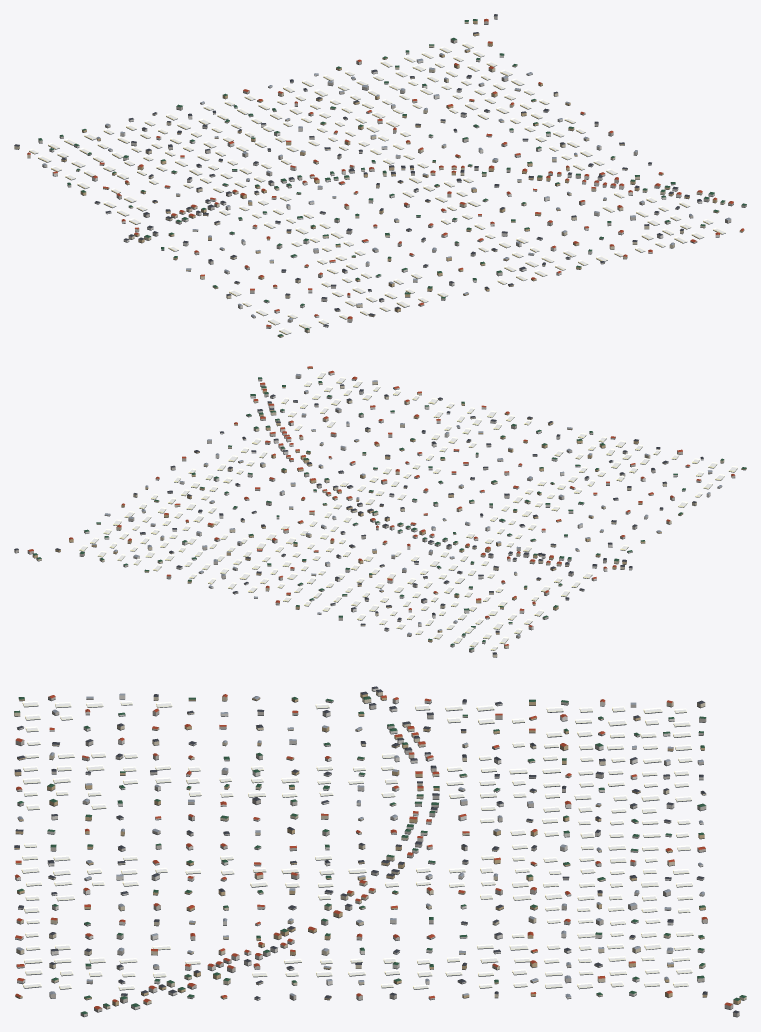
Rendered from buildings_T_E05_S03.glb.
3 renders of one model, top to bottom at view 1: azimuth 30°, elevation 25°; view 2: azimuth 150°, elevation 25°; view 3: azimuth 270°, elevation 25°, orthographic. The views are drawn at different scales.
Parts seen in each view (by area): view 1: T_E05_S03_roofs_agri_greenhouse_arch, T_E05_S03_slope_seating_foundations, T_E05_S03_walls_wall_pastel_sand_gray, T_E05_S03_walls_wall_modern_warm_white, T_E05_S03_walls_wall_french_ochre_villa, T_E05_S03_roofs_roof_slate_French_villa_hip, T_E05_S03_walls_wall_dalat_cream_stucco, T_E05_S03_roofs_roof_terracotta_gable, T_E05_S03_roofs_roof_pine_green_hip, T_E05_S03_roofs_roof_zinc_silver_gable; view 2: T_E05_S03_roofs_agri_greenhouse_arch, T_E05_S03_slope_seating_foundations, T_E05_S03_walls_wall_pastel_sand_gray, T_E05_S03_walls_wall_modern_warm_white, T_E05_S03_roofs_roof_slate_French_villa_hip, T_E05_S03_walls_wall_french_ochre_villa, T_E05_S03_roofs_roof_terracotta_gable, T_E05_S03_walls_wall_dalat_cream_stucco, T_E05_S03_roofs_roof_pine_green_hip, T_E05_S03_roofs_roof_zinc_silver_gable; view 3: T_E05_S03_roofs_agri_greenhouse_arch, T_E05_S03_slope_seating_foundations, T_E05_S03_walls_wall_pastel_sand_gray, T_E05_S03_walls_wall_modern_warm_white, T_E05_S03_walls_wall_french_ochre_villa, T_E05_S03_roofs_roof_slate_French_villa_hip, T_E05_S03_walls_wall_dalat_cream_stucco, T_E05_S03_roofs_roof_terracotta_gable, T_E05_S03_roofs_roof_pine_green_hip, T_E05_S03_roofs_roof_zinc_silver_gable.
Part boxes in pixels (x1,y1,x2,y2): T_E05_S03_roofs_agri_greenhouse_arch: (29, 42, 725, 334); T_E05_S03_slope_seating_foundations: (14, 19, 746, 337); T_E05_S03_walls_wall_pastel_sand_gray: (38, 16, 746, 328); T_E05_S03_walls_wall_modern_warm_white: (49, 55, 719, 326); T_E05_S03_walls_wall_french_ochre_villa: (61, 21, 743, 337); T_E05_S03_roofs_roof_slate_French_villa_hip: (14, 14, 701, 326); T_E05_S03_walls_wall_dalat_cream_stucco: (14, 22, 725, 332); T_E05_S03_roofs_roof_terracotta_gable: (27, 18, 744, 326); T_E05_S03_roofs_roof_pine_green_hip: (38, 19, 746, 336); T_E05_S03_roofs_roof_zinc_silver_gable: (42, 48, 730, 320); T_E05_S03_roofs_agri_greenhouse_arch: (79, 371, 737, 650); T_E05_S03_slope_seating_foundations: (14, 368, 746, 657); T_E05_S03_walls_wall_pastel_sand_gray: (14, 374, 735, 652); T_E05_S03_walls_wall_modern_warm_white: (84, 372, 710, 643); T_E05_S03_roofs_roof_slate_French_villa_hip: (14, 384, 703, 654); T_E05_S03_walls_wall_french_ochre_villa: (32, 367, 746, 641); T_E05_S03_roofs_roof_terracotta_gable: (28, 366, 735, 645); T_E05_S03_walls_wall_dalat_cream_stucco: (36, 381, 724, 657); T_E05_S03_roofs_roof_pine_green_hip: (33, 377, 746, 649); T_E05_S03_roofs_roof_zinc_silver_gable: (92, 374, 721, 636); T_E05_S03_roofs_agri_greenhouse_arch: (21, 701, 693, 989); T_E05_S03_slope_seating_foundations: (14, 690, 746, 1017); T_E05_S03_walls_wall_pastel_sand_gray: (15, 696, 739, 1016); T_E05_S03_walls_wall_modern_warm_white: (15, 688, 704, 1009); T_E05_S03_walls_wall_french_ochre_villa: (14, 693, 740, 1005); T_E05_S03_roofs_roof_slate_French_villa_hip: (14, 686, 739, 1013); T_E05_S03_walls_wall_dalat_cream_stucco: (14, 691, 746, 1008); T_E05_S03_roofs_roof_terracotta_gable: (15, 694, 732, 1009); T_E05_S03_roofs_roof_pine_green_hip: (14, 696, 746, 1014); T_E05_S03_roofs_roof_zinc_silver_gable: (16, 693, 704, 997).
Bounding box in the file's own units: 1925 × 43.18 × 1844.
